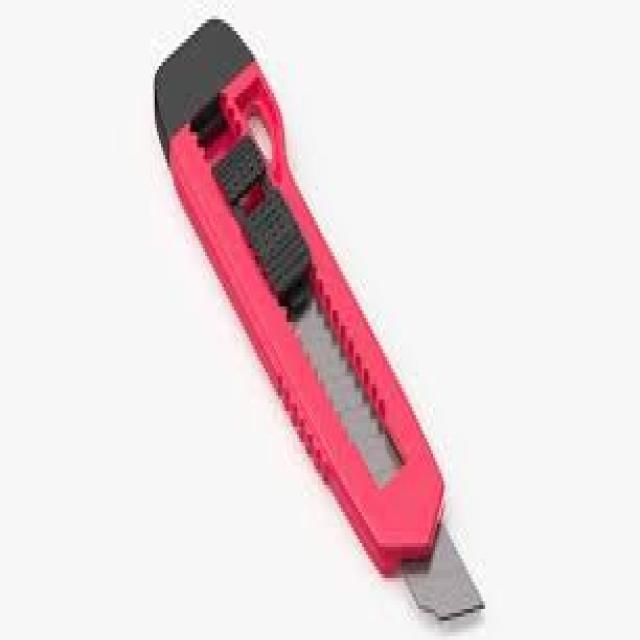cutter: (138, 0, 490, 640)
